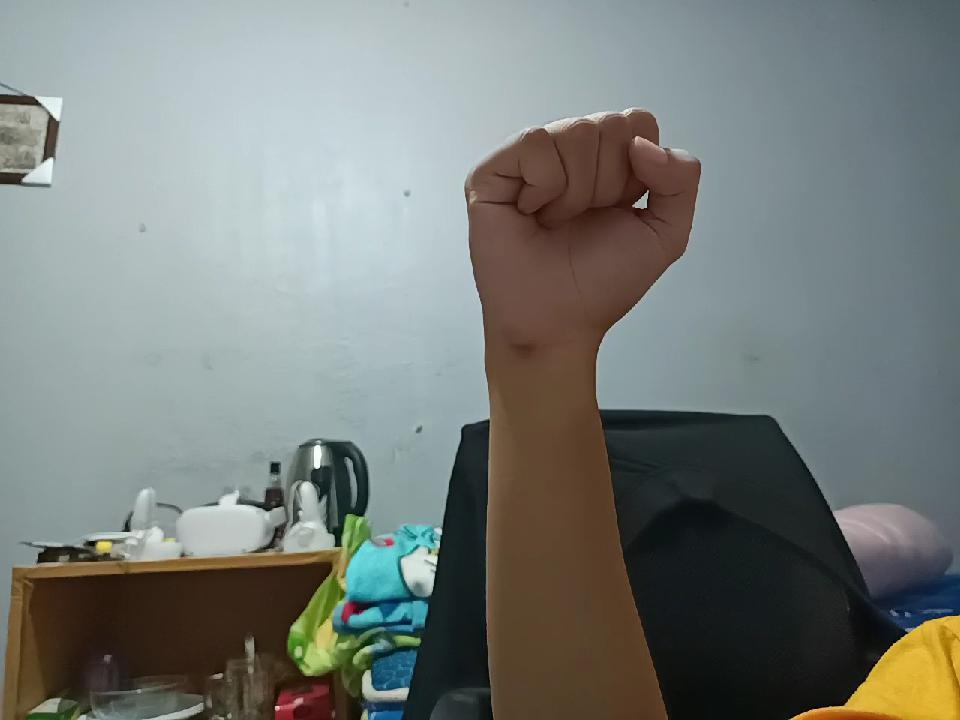rock: (470, 108, 694, 347)
